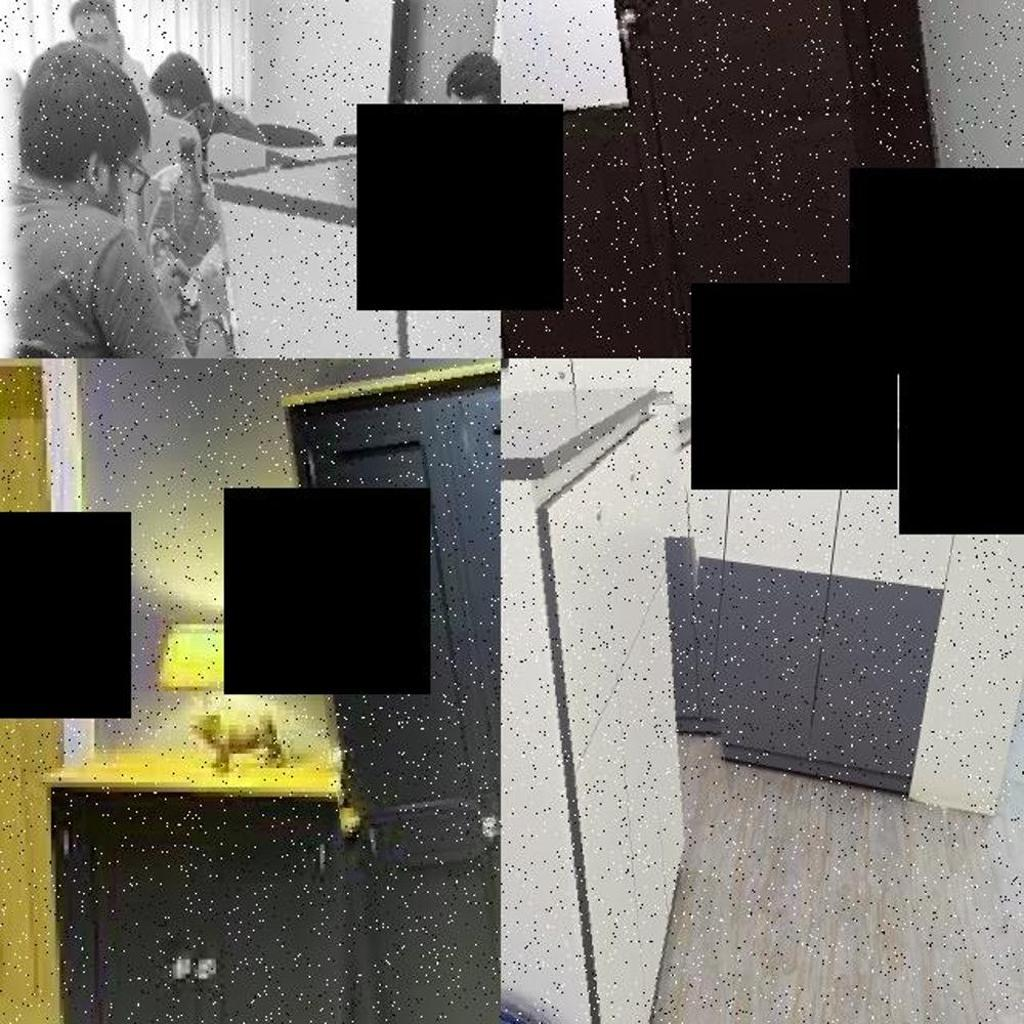cabinet: (501, 358, 757, 1024), (501, 0, 958, 358), (306, 358, 501, 1024), (19, 750, 349, 1024), (216, 133, 501, 358)
